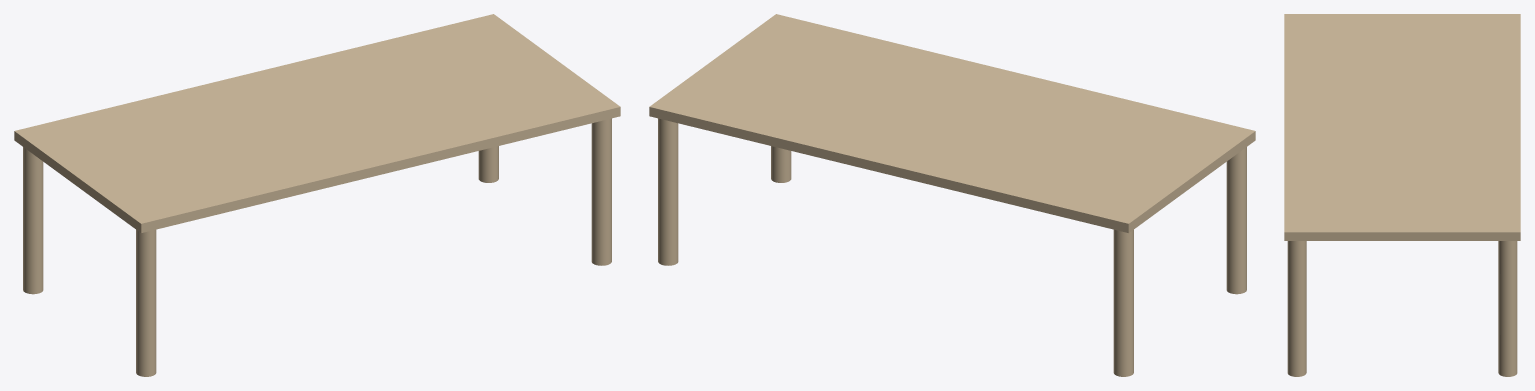
The model's file is newport-38744-g2-proxy.glb.
3 views of the same model, side by side, from view 1: azimuth 30°, elevation 25°; view 2: azimuth 150°, elevation 25°; view 3: azimuth 270°, elevation 25° (orthographic). The views are drawn at different scales.
Visible parts, largest first — view 1: proxy_body, leg (×4); view 2: proxy_body, leg (×4); view 3: proxy_body, leg (×2).
Part boxes in pixels (box(x1,y1,x2,y2)): proxy_body: box(14, 14, 620, 233); leg (×4): box(23, 118, 611, 376); proxy_body: box(649, 14, 1255, 233); leg (×4): box(658, 118, 1246, 376); proxy_body: box(1284, 14, 1520, 240); leg (×2): box(1287, 241, 1517, 376).
Size of the model in its own units: 2.4 by 0.75 by 1.1.
